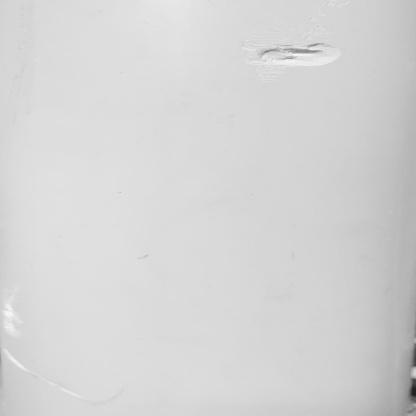sunshang: (1, 290, 50, 385), (245, 32, 350, 71)
